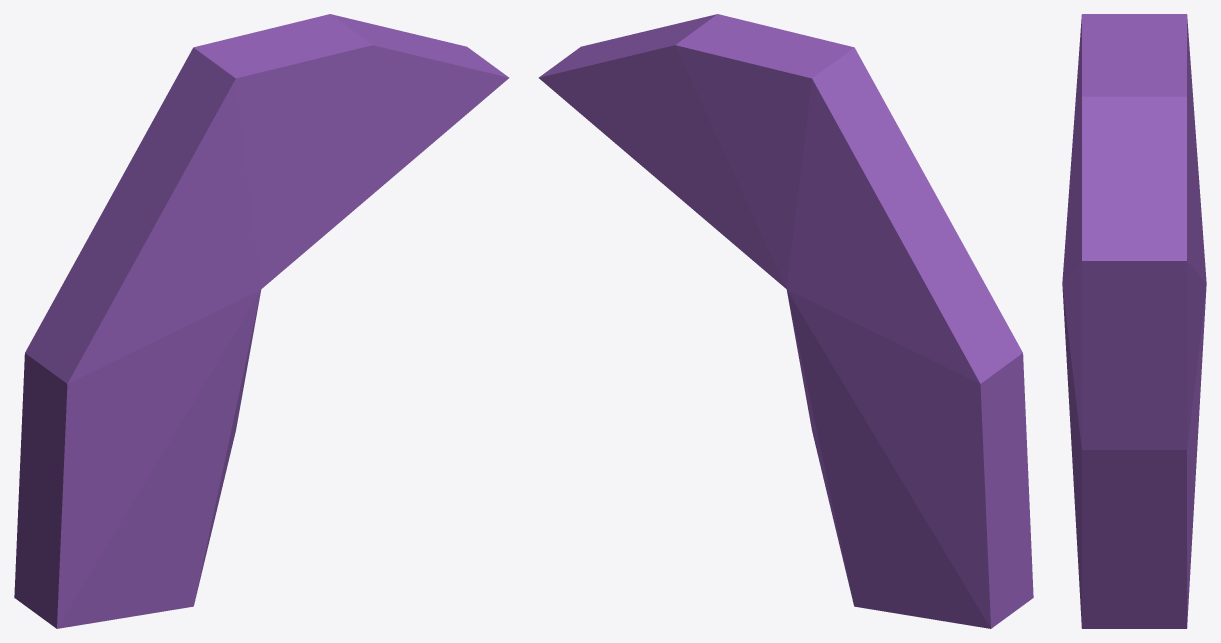
3 renders of one model, left to right at view 1: azimuth 30°, elevation 25°; view 2: azimuth 150°, elevation 25°; view 3: azimuth 270°, elevation 25°, orthographic. The views are drawn at different scales.
Parts seen in each view (by area): view 1: 折颈鸟头与尖喙.001; view 2: 折颈鸟头与尖喙.001; view 3: 折颈鸟头与尖喙.001.
Boxes of the visible parts, <box> form: 折颈鸟头与尖喙.001: <box>14,14,509,628</box>; 折颈鸟头与尖喙.001: <box>538,14,1033,628</box>; 折颈鸟头与尖喙.001: <box>1062,14,1206,628</box>.
Size of the model in its own units: 0.43 by 0.47 by 0.096.
